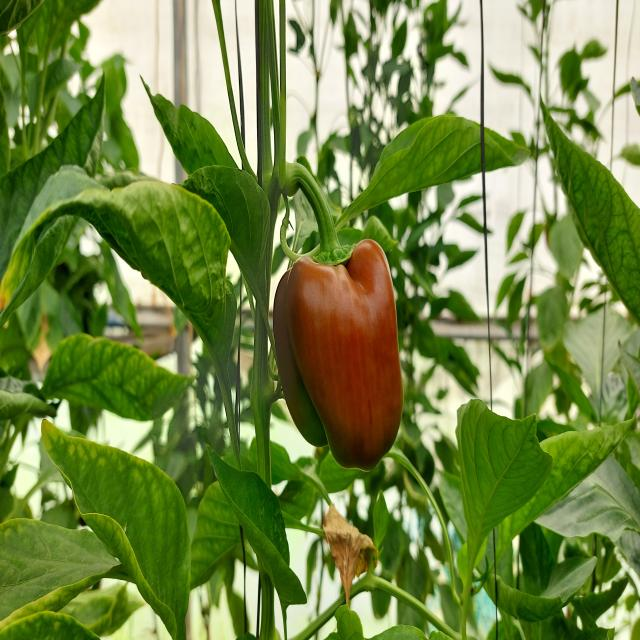BrownishRed--Can-be-Harvested: (276, 231, 411, 472)
